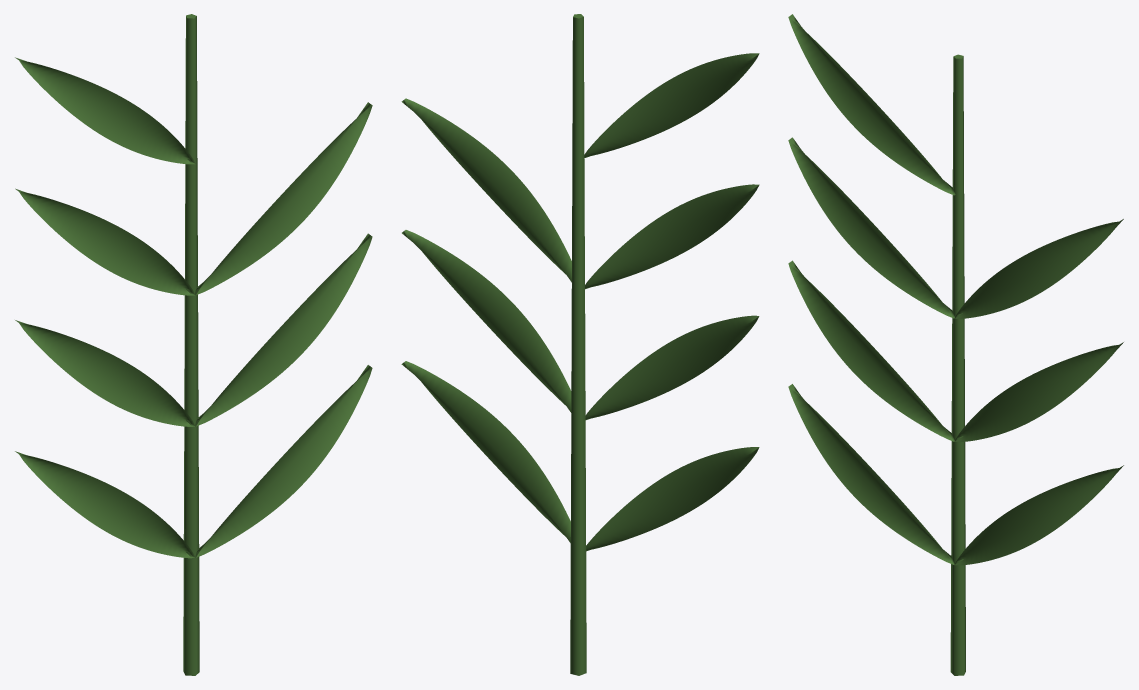
File: leaf-compound.glb
The picture shows the model from 3 angles, left to right: view 1: azimuth 30°, elevation 25°; view 2: azimuth 150°, elevation 25°; view 3: azimuth 330°, elevation 25°; orthographic projection. The views are drawn at different scales.
Parts seen in each view (by area): view 1: tint-surface; view 2: tint-surface; view 3: tint-surface.
Boxes of the visible parts, x1=… form: tint-surface: x1=15, y1=14, x2=372, y2=675; tint-surface: x1=401, y1=14, x2=759, y2=675; tint-surface: x1=788, y1=14, x2=1123, y2=675.
Size of the model in its own units: 0.564 by 1 by 0.0475.
